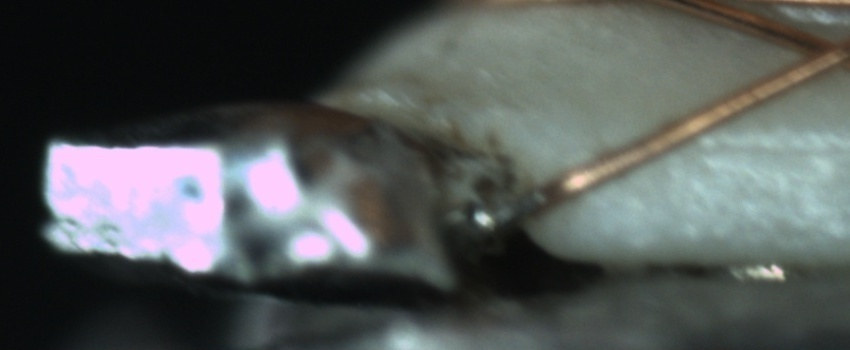CL: (776, 22, 849, 80)
DL: (681, 112, 847, 179)
TS: (468, 181, 546, 233)
